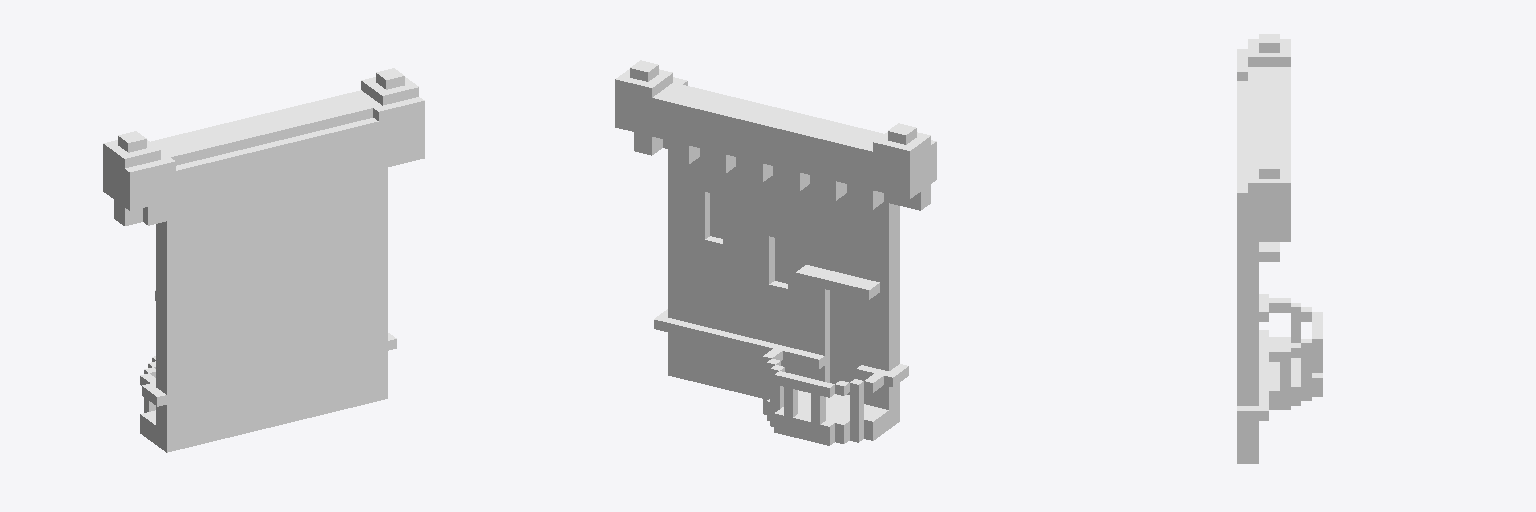
File: tile_4_right_90.obj
The picture shows the model from 3 angles: view 1: azimuth 30°, elevation 25°; view 2: azimuth 150°, elevation 25°; view 3: azimuth 270°, elevation 25°; orthographic projection.
Visible parts, largest first — view 1: object 1; view 2: object 1; view 3: object 1.
Boxes of the visible parts, x1,y1,x2,y2 form: object 1: [103, 68, 424, 452]; object 1: [615, 60, 936, 445]; object 1: [1237, 34, 1322, 463].
Bounding box in the file's own units: 3.2 × 3.2 × 0.8.